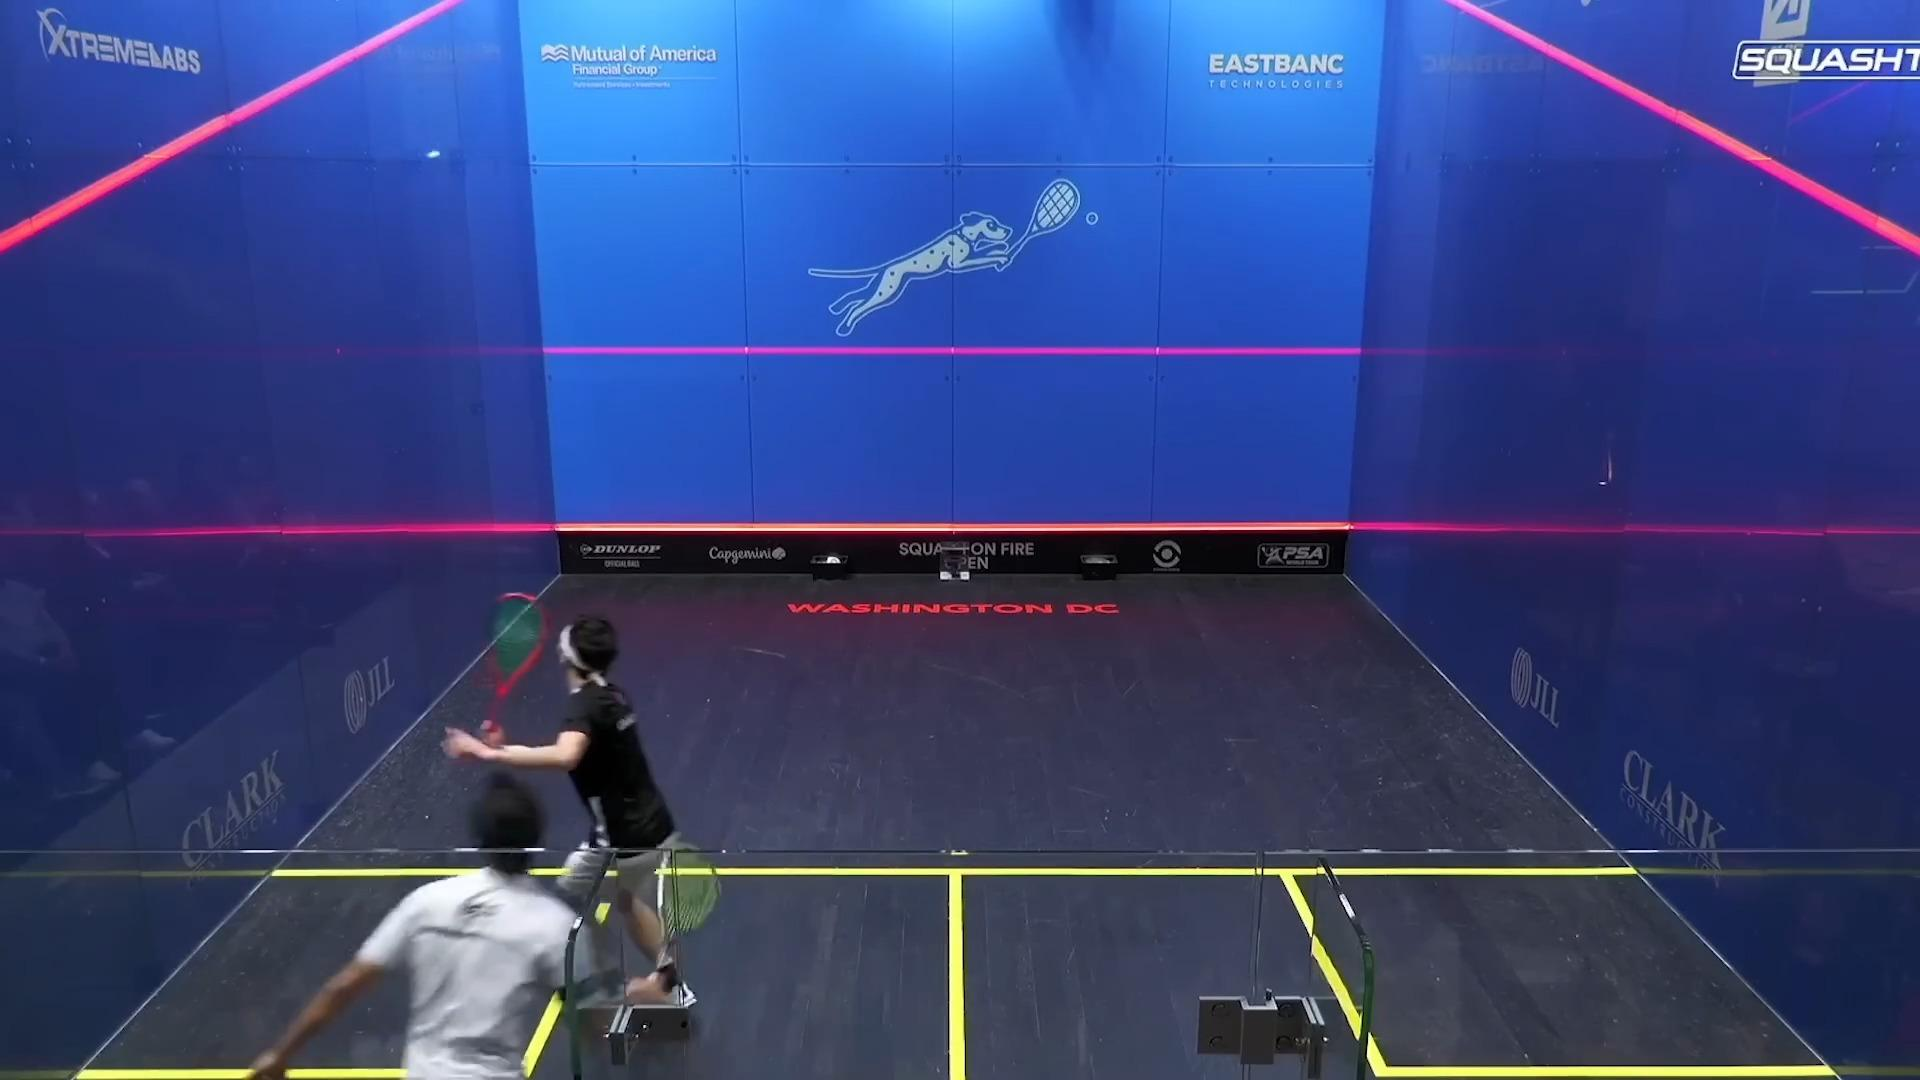Squash-Ball: (417, 136, 452, 174)
